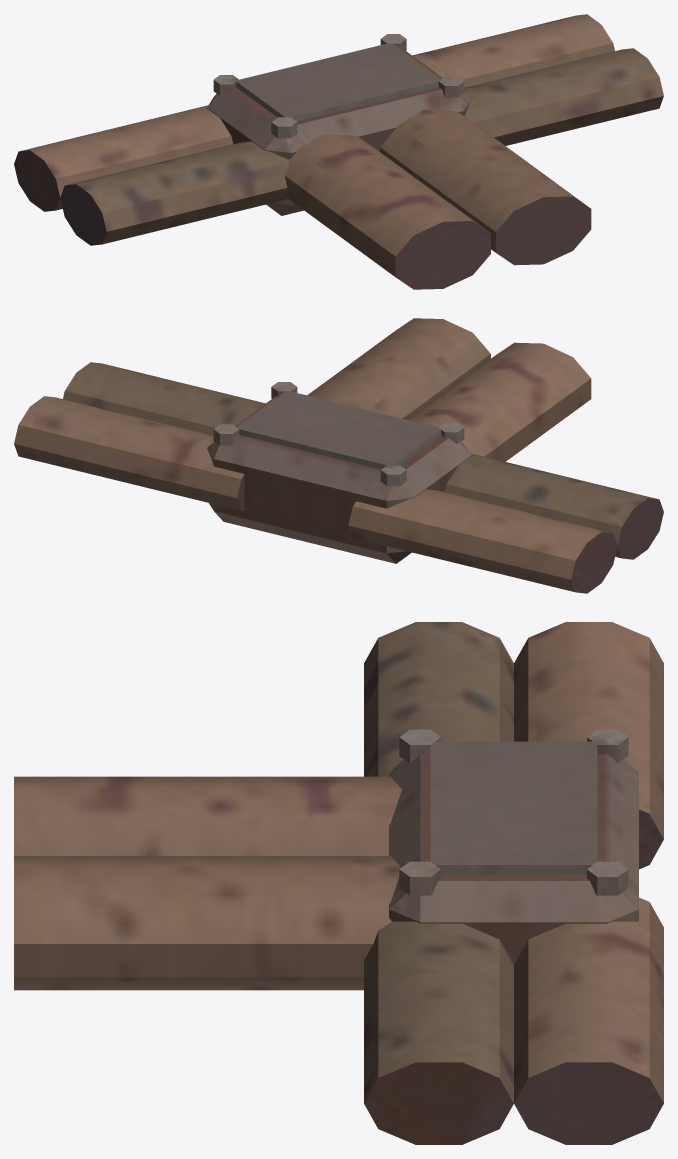
File: heat-pipe-t-down.glb
The picture shows the model from 3 angles, top to bottom: view 1: azimuth 30°, elevation 25°; view 2: azimuth 150°, elevation 25°; view 3: azimuth 270°, elevation 25°; orthographic projection. The views are drawn at different scales.
Parts seen in each view (by area): view 1: body; view 2: body; view 3: body.
Part boxes in pixels (x1,y1,x2,y2): body: (14,14,663,289); body: (14,318,663,593); body: (14,622,663,1144).
Size of the model in its own units: 1 by 0.16 by 0.624.
1 material, 1 textured.
